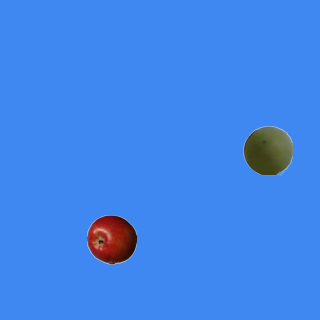Apple Braeburn: (86, 214, 136, 264)
Grape White 4: (242, 125, 292, 175)
